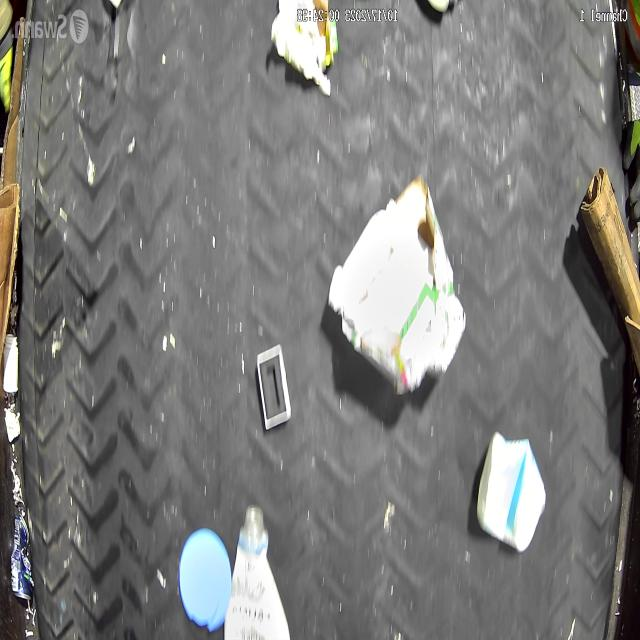can: (10, 514, 32, 600)
non_white_jug: (476, 431, 546, 552)
